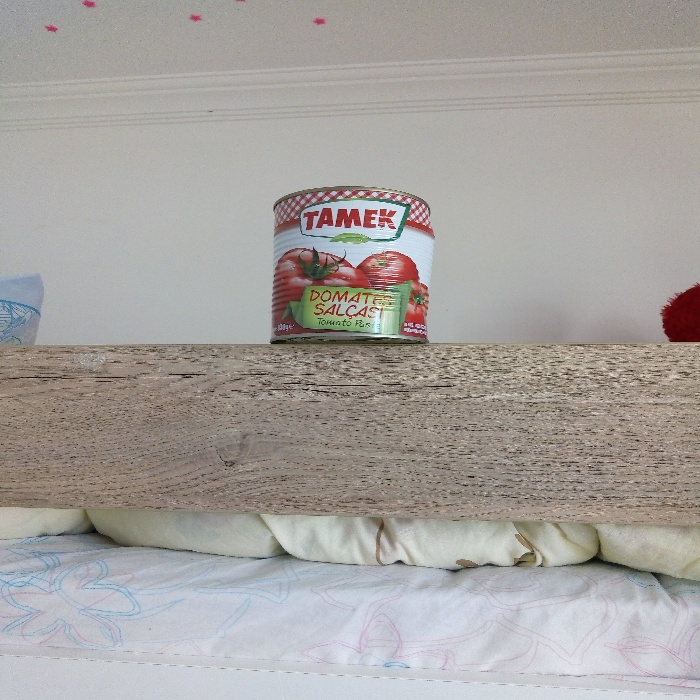salca: (262, 174, 443, 357)
